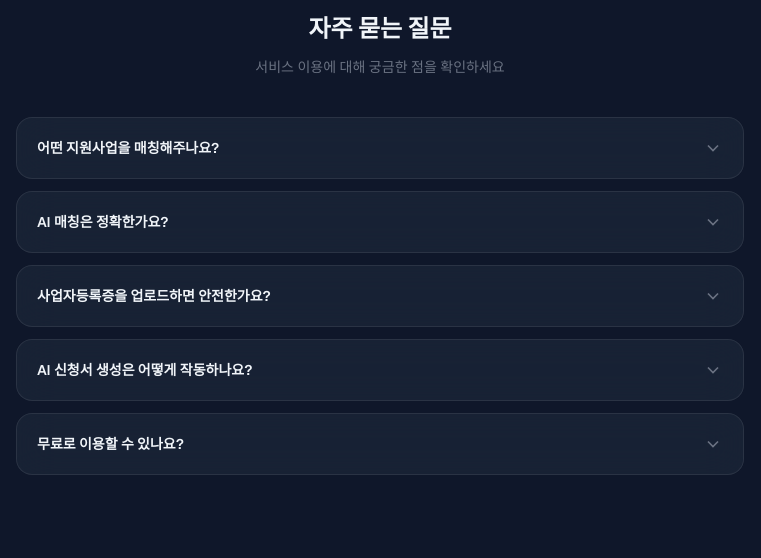
it: FAQ content regression (각 답변의 핵심 문장) › Q2: AI 매칭 정확도 › answer mentions 5 dimensions
What coordinates should you click on to do the following:
click the button "AI 매칭은 정확한가요?"
I would click on:
 (103, 222)
Its box is [17,192,743,252].
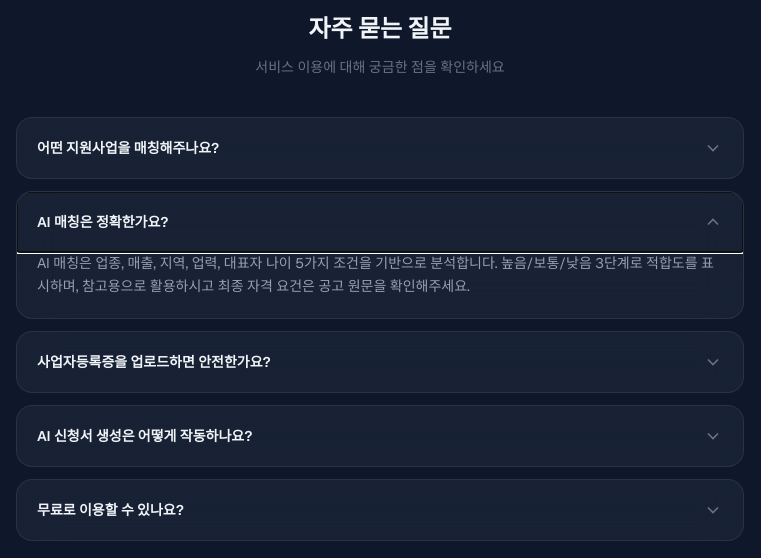
Expected: the text "5가지 조건" is shown, [37,254,714,295]
